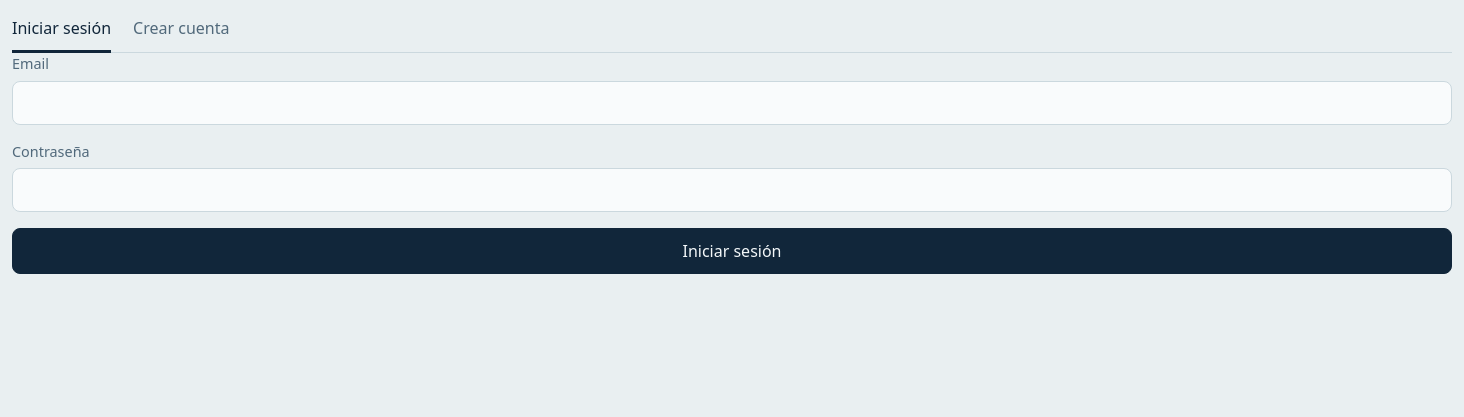
Test case: LoginForm › should show an error when account creation fails
Click the button "Crear cuenta" at (181, 30), box x1=133 y1=6 x2=229 y2=53
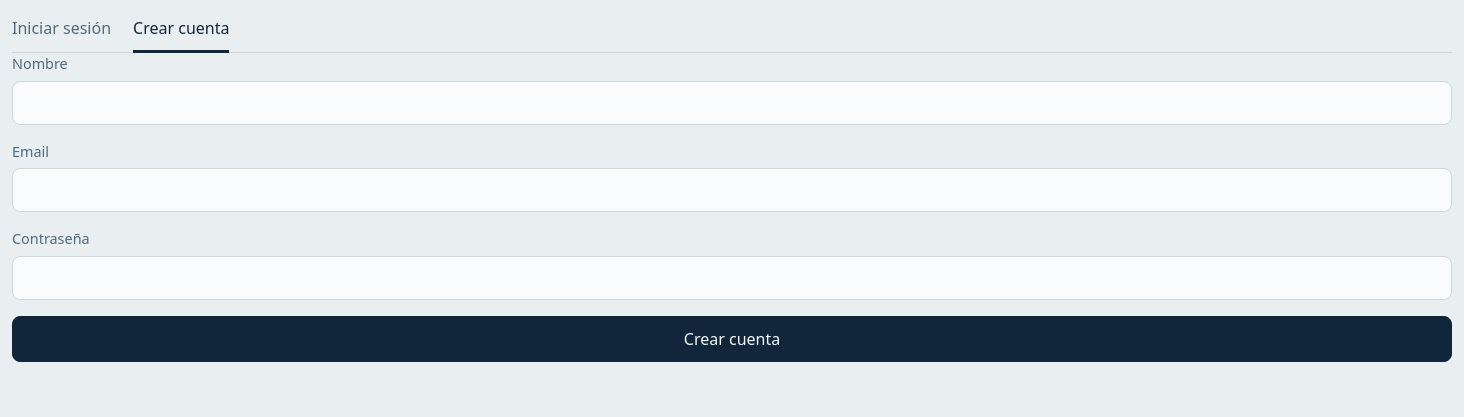
Type "Jaime" into the field labelled "Nombre" at (732, 103), box x1=12 y1=81 x2=1452 y2=125
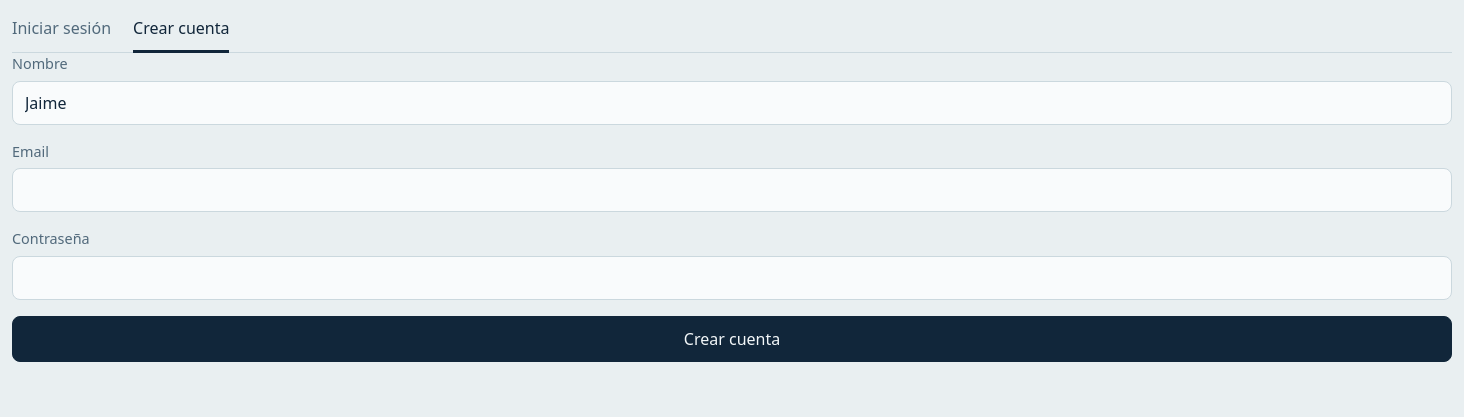
Type "jaime@email.com" into the field labelled "Email" at (732, 190), box x1=12 y1=168 x2=1452 y2=212
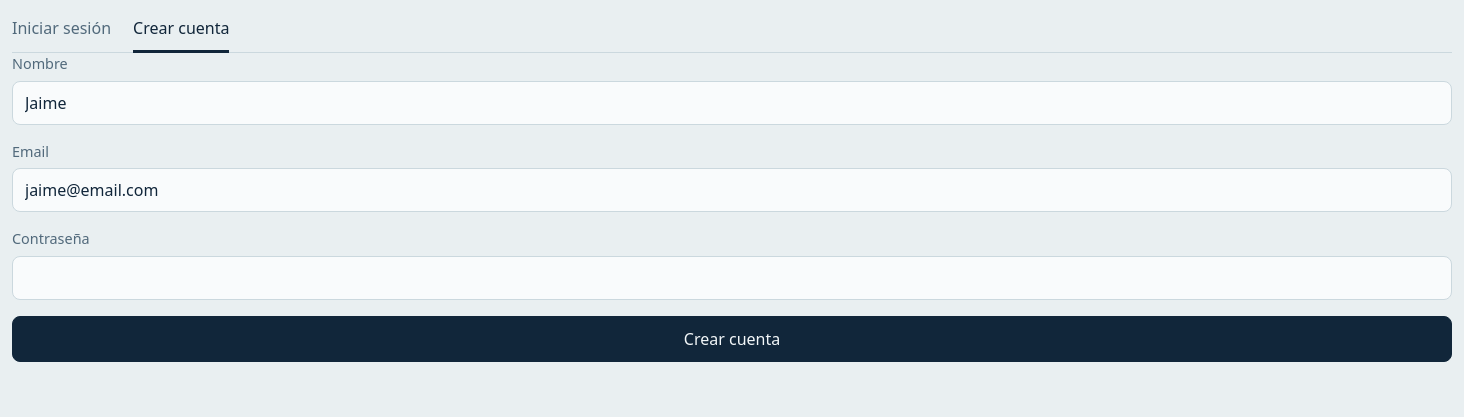
Type "password123" into the password field labelled "Contraseña" at (732, 278), box x1=12 y1=256 x2=1452 y2=300
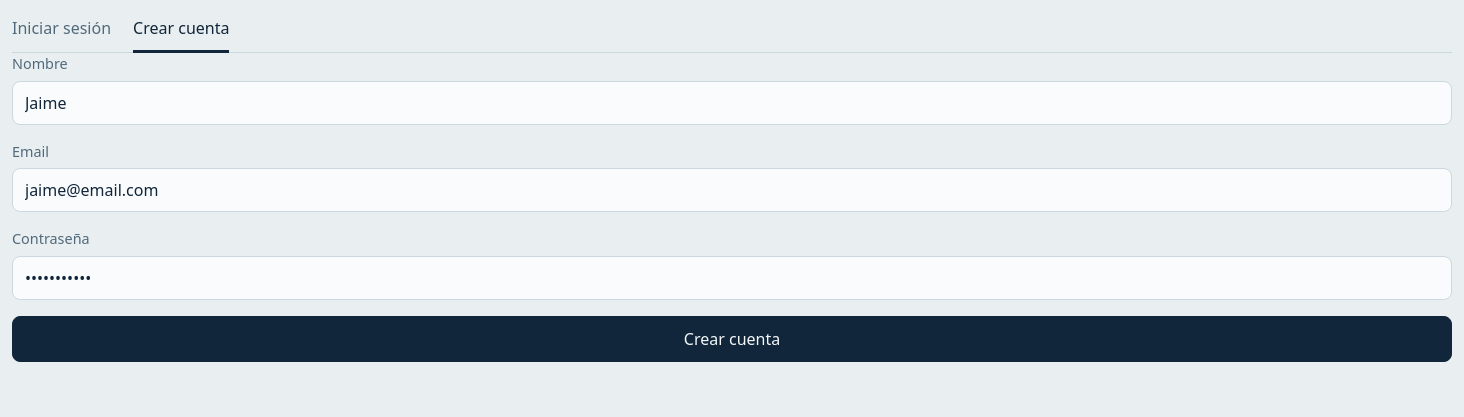
Click the button "Crear cuenta" below "Contraseña" at (732, 339), box x1=12 y1=316 x2=1452 y2=362
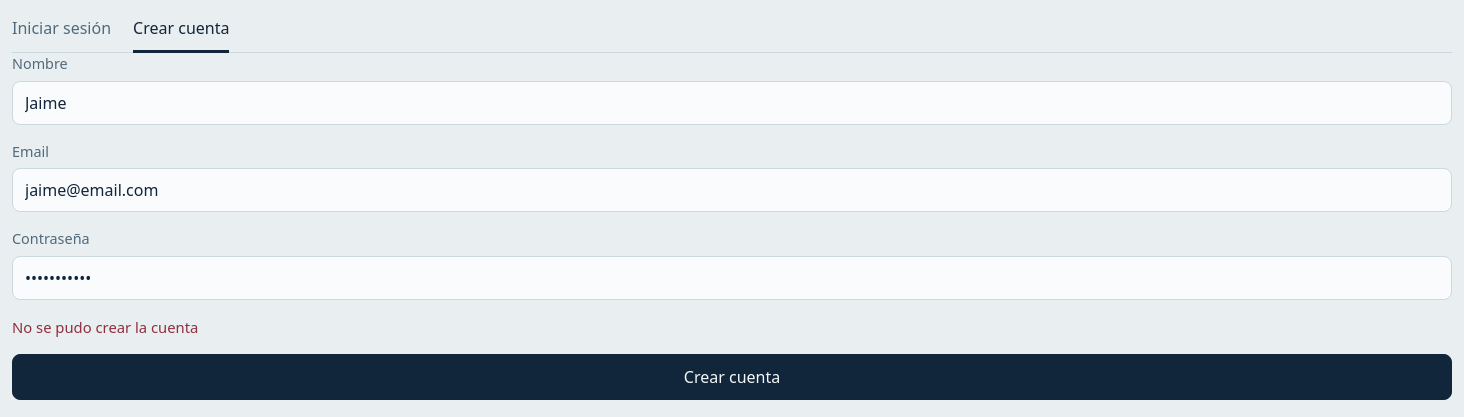
Now the text "No se pudo crear la cuenta" is shown, box x1=12 y1=317 x2=198 y2=337
